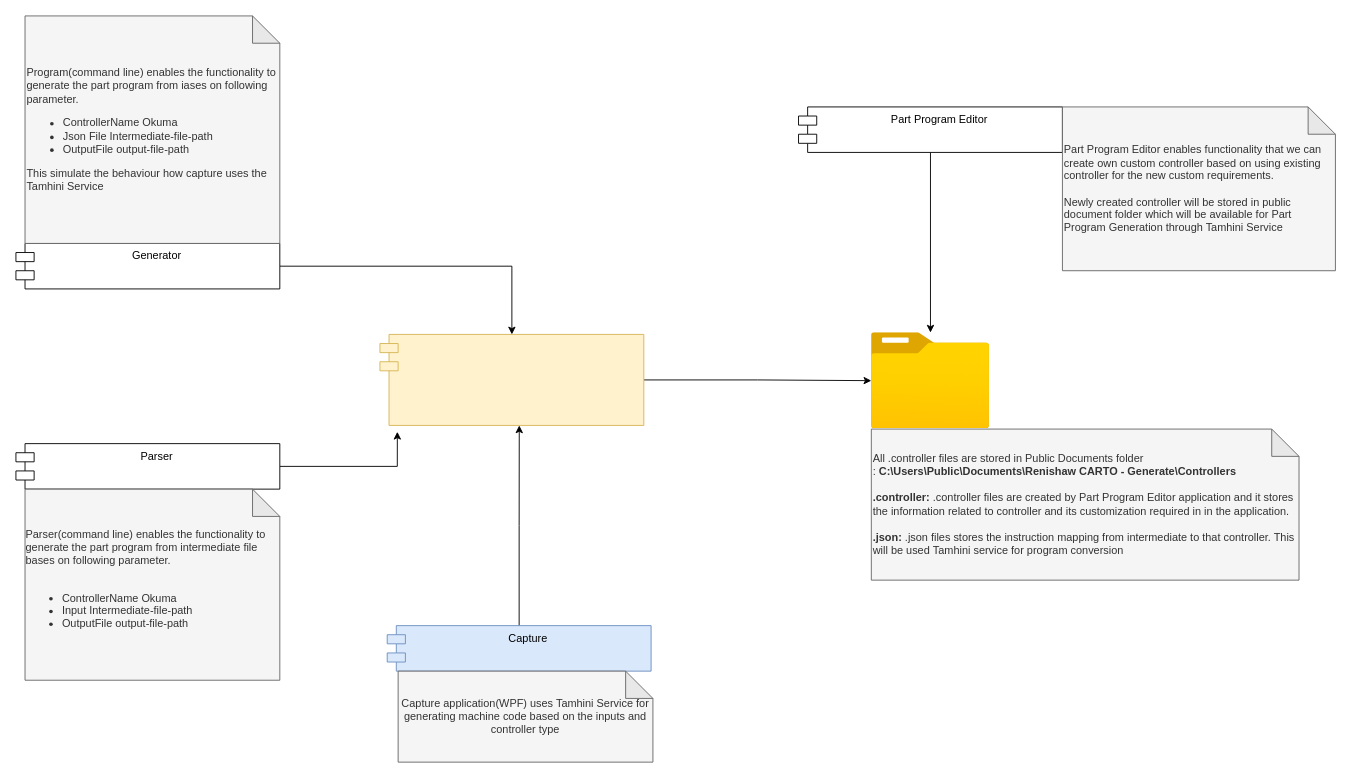
Image size: 1351x778. Some labels were removed from this diagram. The centre of each missing label's shape, as x and y in pixels:
.controller .json: point (930, 380)
Tamhini WCF Service: point (511, 379)
